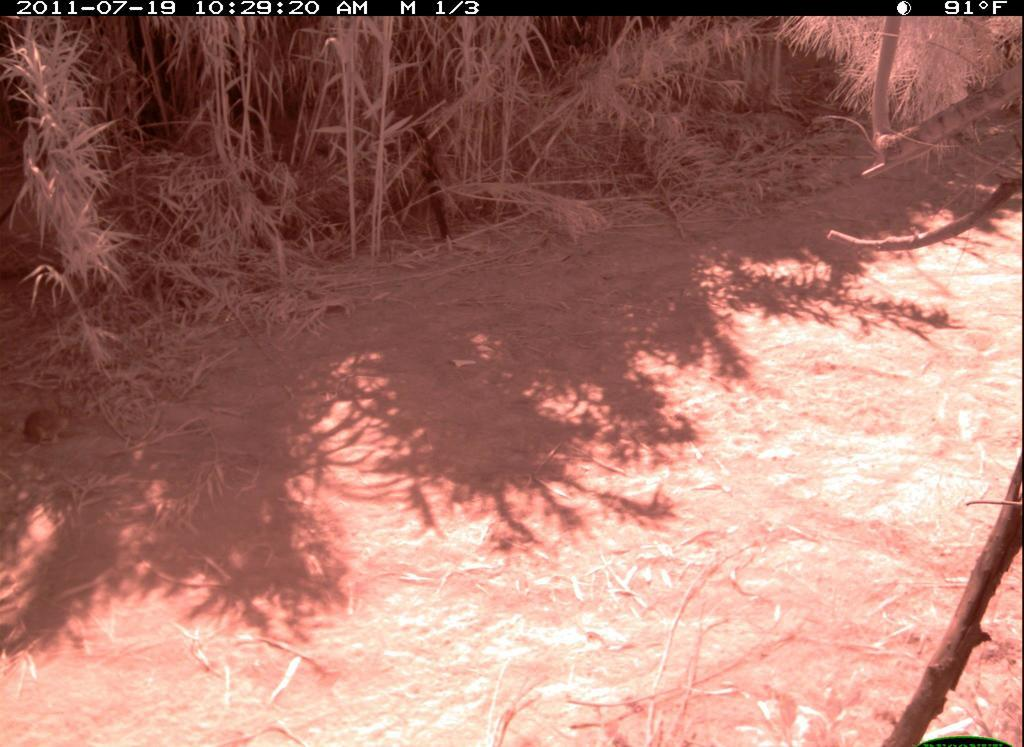rabbit: (17, 396, 90, 454)
